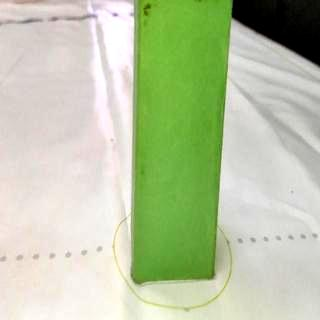greenbox: (131, 0, 232, 284)
